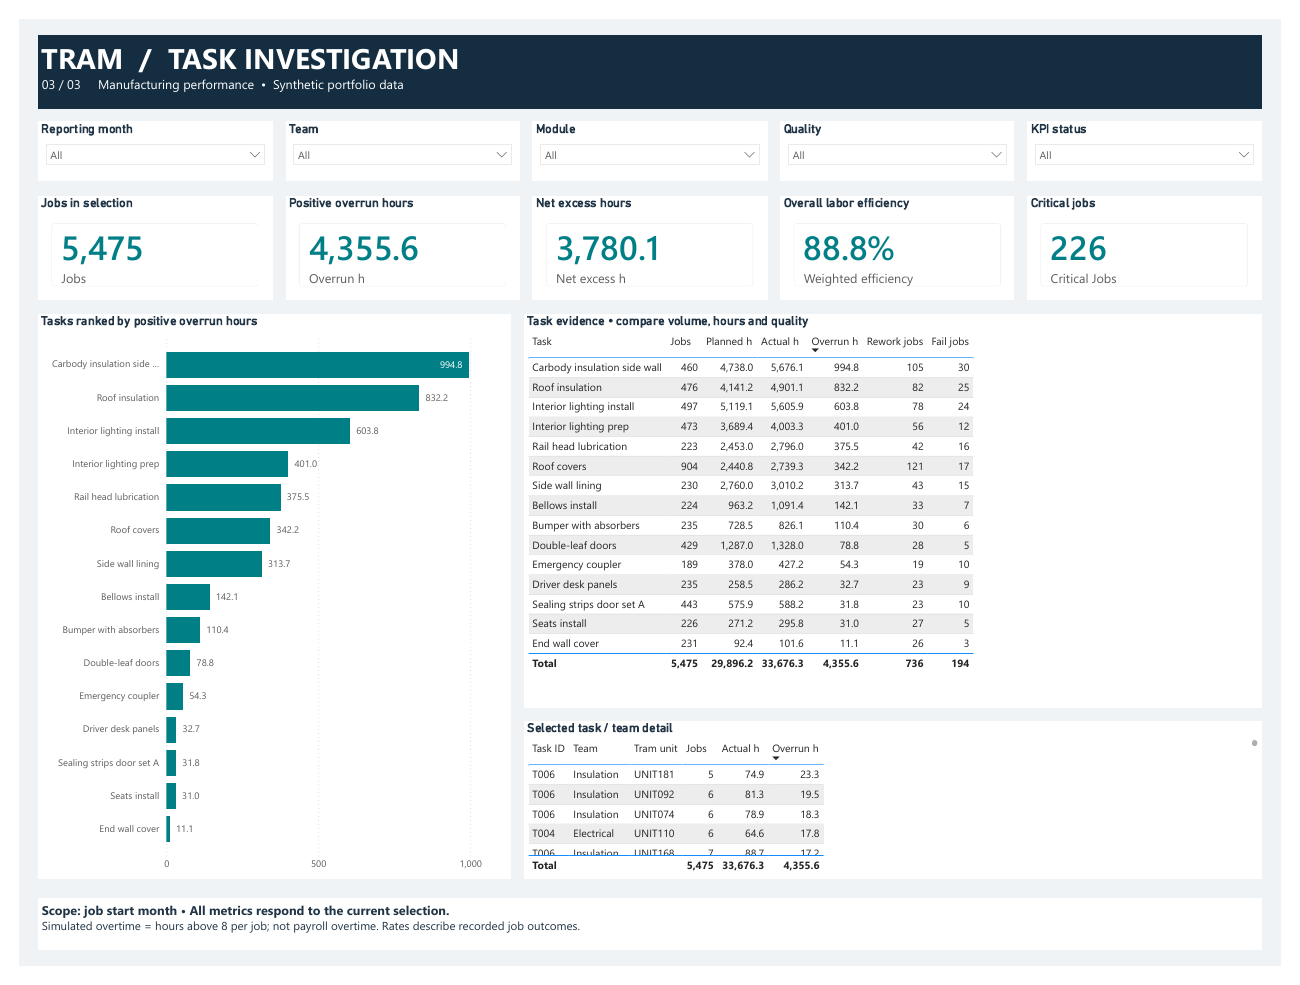

This screenshot's page, from the dashboard's own definition file:
{"tool":"powerbi","page":{"name":"Task Investigation","canvas":[1600,1200],"ordinal":2},"visuals":[{"type":"textbox","box":[24,20,1552,94],"z":30},{"type":"slicer","title":"Reporting month","fields":{"Values":["vw_tram_kpi.Reporting Month"]},"box":[24,130,297.6,76],"z":31},{"type":"slicer","title":"Team","fields":{"Values":["vw_tram_kpi.team"]},"box":[337.6,130,297.6,76],"z":32},{"type":"slicer","title":"Module","fields":{"Values":["vw_tram_kpi.module"]},"box":[651.2,130,297.6,76],"z":33},{"type":"slicer","title":"Quality","fields":{"Values":["vw_tram_kpi.work_quality"]},"box":[964.8,130,297.6,76],"z":34},{"type":"slicer","title":"KPI status","fields":{"Values":["vw_tram_kpi.kpi_status"]},"box":[1278.4,130,297.6,76],"z":35},{"type":"textbox","box":[24,1114,1552,66],"z":36},{"type":"cardVisual","title":"Jobs in selection","fields":{"Data":["vw_tram_kpi.Total Jobs"]},"box":[24,224,297.6,132],"z":37},{"type":"cardVisual","title":"Positive overrun hours","fields":{"Data":["vw_tram_kpi.Positive Overrun Hours"]},"box":[337.6,224,297.6,132],"z":38},{"type":"cardVisual","title":"Net excess hours","fields":{"Data":["vw_tram_kpi.Total Excess Hours"]},"box":[651.2,224,297.6,132],"z":39},{"type":"cardVisual","title":"Overall labor efficiency","fields":{"Data":["vw_tram_kpi.Overall Efficiency"]},"box":[964.8,224,297.6,132],"z":40},{"type":"cardVisual","title":"Critical jobs","fields":{"Data":["vw_tram_kpi.Critical Jobs"]},"box":[1278.4,224,297.6,132],"z":41},{"type":"clusteredBarChart","title":"Tasks ranked by positive overrun hours","fields":{"Category":["vw_tram_kpi.item_name"],"Y":["vw_tram_kpi.Positive Overrun Hours"]},"box":[24,374,600,716],"z":42},{"type":"tableEx","title":"Task evidence • compare volume, hours and quality","fields":{"Values":["vw_tram_kpi.item_name","vw_tram_kpi.Total Jobs","vw_tram_kpi.Planned Hours","vw_tram_kpi.Actual Hours","vw_tram_kpi.Positive Overrun Hours","vw_tram_kpi.Rework Jobs","vw_tram_kpi.Fail Jobs"]},"box":[640,374,936,500],"z":43},{"type":"tableEx","title":"Selected task / team detail","fields":{"Values":["vw_tram_kpi.task_id","vw_tram_kpi.team","vw_tram_kpi.tram_unit","vw_tram_kpi.Total Jobs","vw_tram_kpi.Actual Hours","vw_tram_kpi.Positive Overrun Hours"]},"box":[640,890,936,200],"z":44}]}

Visuals, with their boxes in screenshot pixels (x1, y1, x2, y2), scaled from the page's 1600x1200 canvas onto the 1300x985 screenshot:
textbox: x1=20, y1=16, x2=1280, y2=94
"Reporting month" slicer: x1=20, y1=107, x2=261, y2=169
"Team" slicer: x1=274, y1=107, x2=516, y2=169
"Module" slicer: x1=529, y1=107, x2=771, y2=169
"Quality" slicer: x1=784, y1=107, x2=1026, y2=169
"KPI status" slicer: x1=1039, y1=107, x2=1280, y2=169
textbox: x1=20, y1=914, x2=1280, y2=969
"Jobs in selection" cardVisual: x1=20, y1=184, x2=261, y2=292
"Positive overrun hours" cardVisual: x1=274, y1=184, x2=516, y2=292
"Net excess hours" cardVisual: x1=529, y1=184, x2=771, y2=292
"Overall labor efficiency" cardVisual: x1=784, y1=184, x2=1026, y2=292
"Critical jobs" cardVisual: x1=1039, y1=184, x2=1280, y2=292
"Tasks ranked by positive overrun hours" clusteredBarChart: x1=20, y1=307, x2=507, y2=895
"Task evidence • compare volume, hours and quality" tableEx: x1=520, y1=307, x2=1280, y2=717
"Selected task / team detail" tableEx: x1=520, y1=731, x2=1280, y2=895
